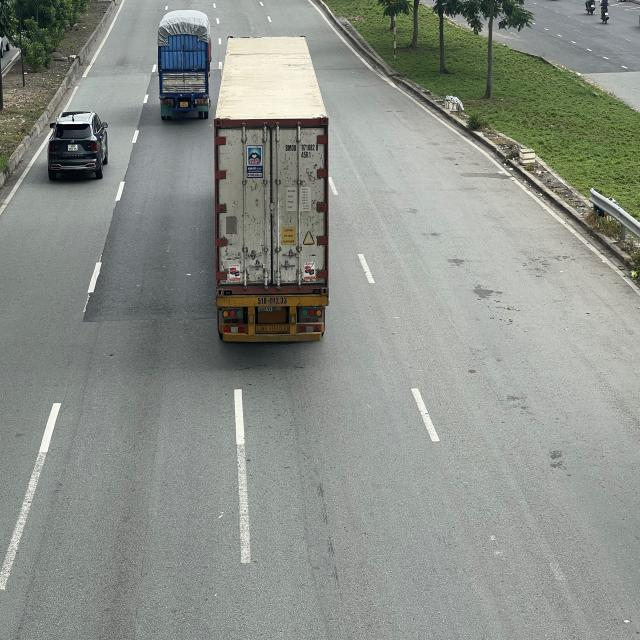car: (46, 112, 109, 180)
container: (213, 35, 330, 344)
truck: (158, 7, 213, 122)
